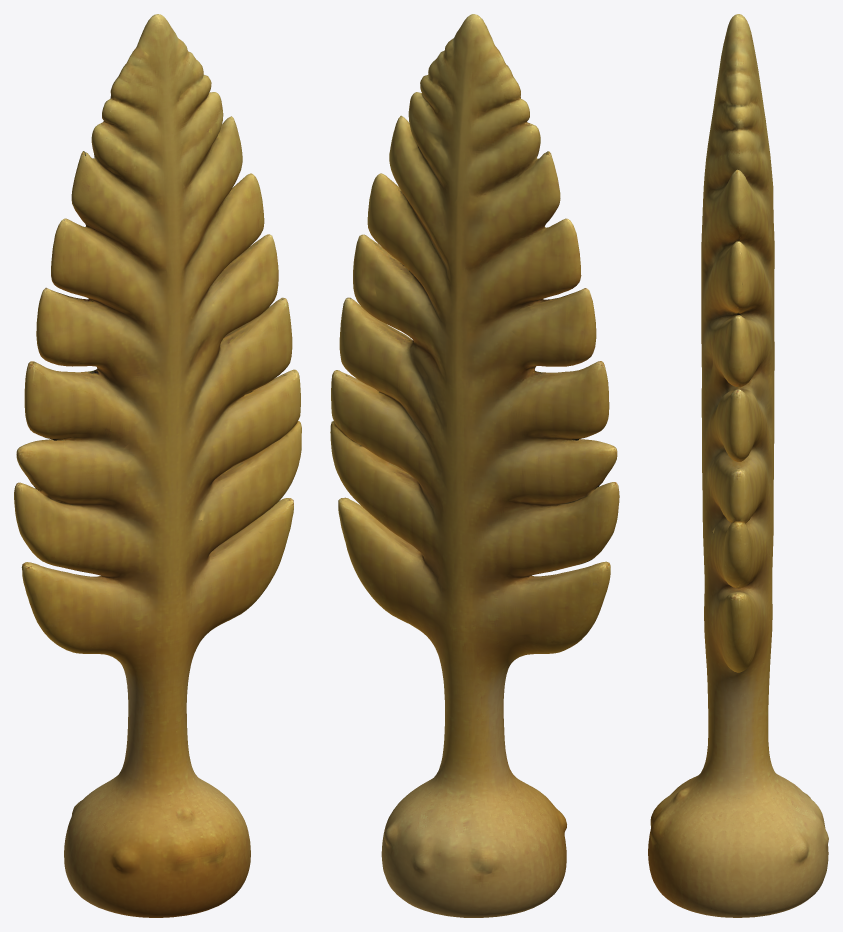
3 renders of one model, left to right at view 1: azimuth 30°, elevation 25°; view 2: azimuth 150°, elevation 25°; view 3: azimuth 270°, elevation 25°, orthographic.
Visible parts, largest first — view 1: world; view 2: world; view 3: world.
Part boxes in pixels (x1,y1,x2,y2): world: [14, 14, 301, 917]; world: [330, 14, 619, 917]; world: [648, 14, 828, 917].
Bounding box in the file's own units: 0.0721 × 0.21 × 0.0395.
Materials: 1 (1 with a texture image).
